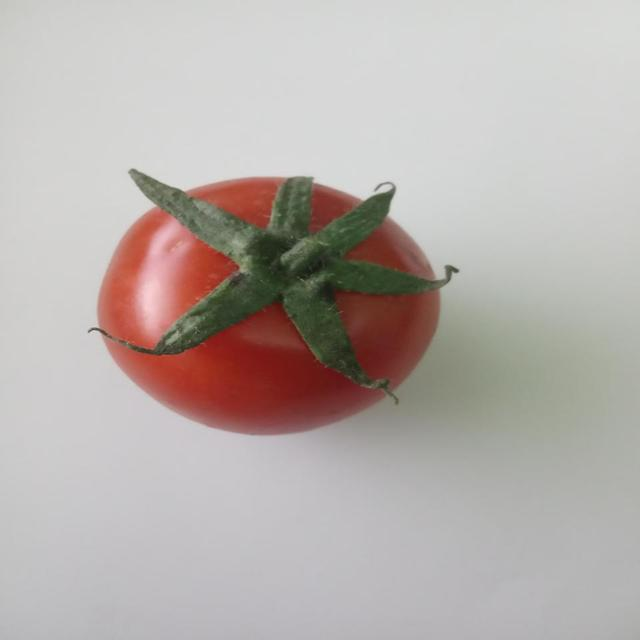Healthy Fruit: (62, 104, 300, 294)
